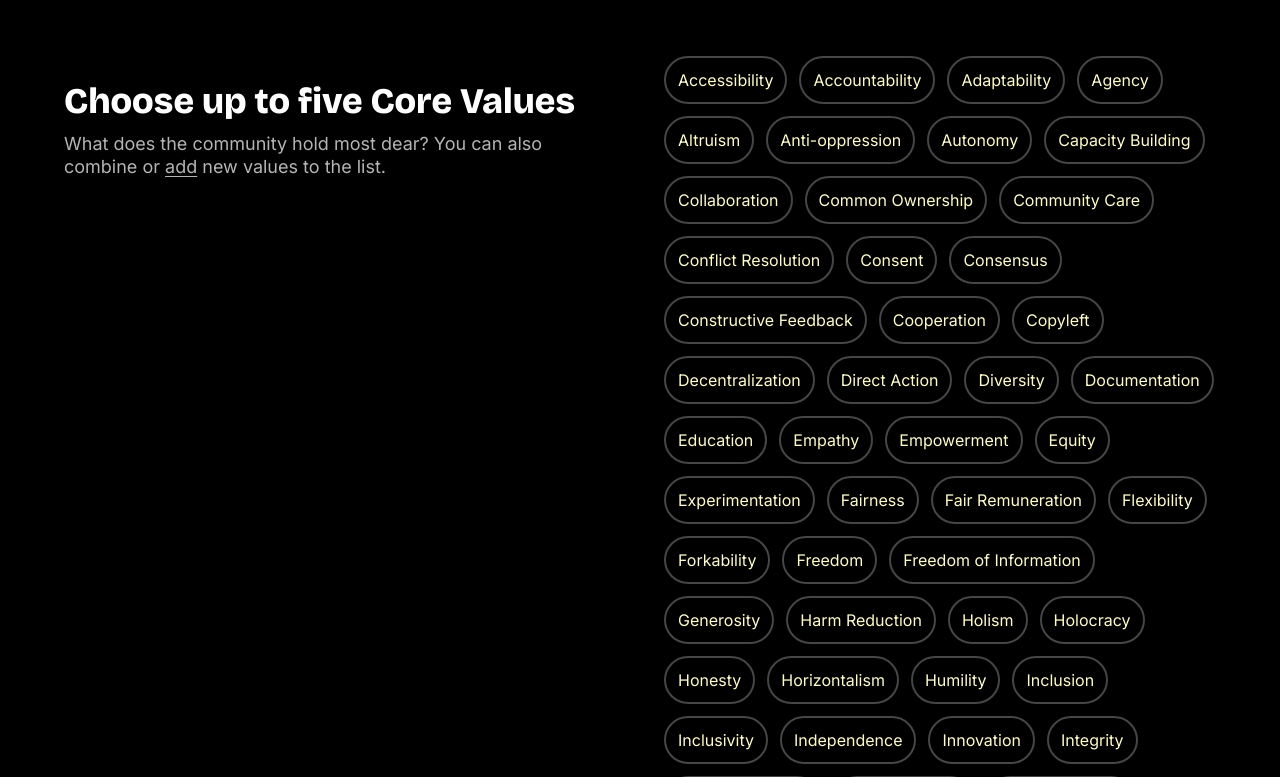
Test: CoreValuesSelectScreen › saves details when Add Value is clicked
Click the button "Accessibility" at (726, 80), box [664,56,787,104]
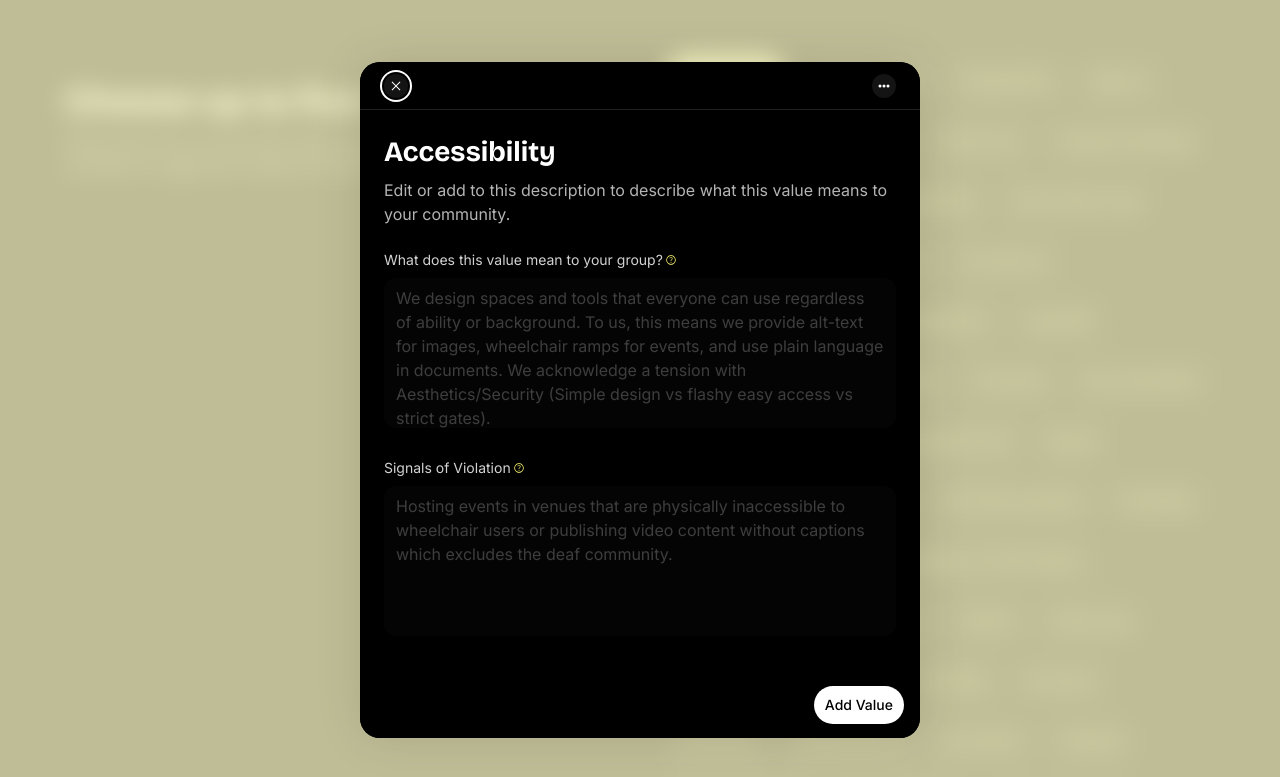
Click the button "Add Value" at (859, 705), box [814,686,904,724]
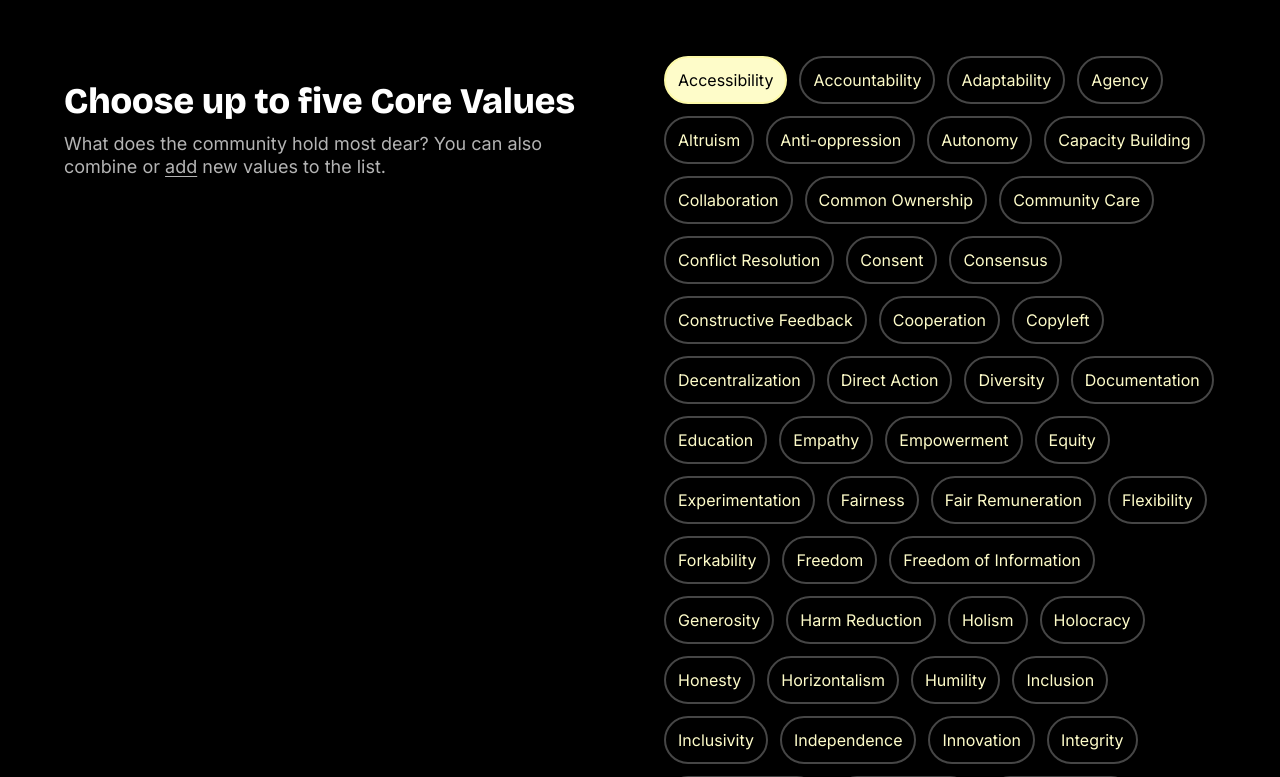
Check: the dialog is gone
